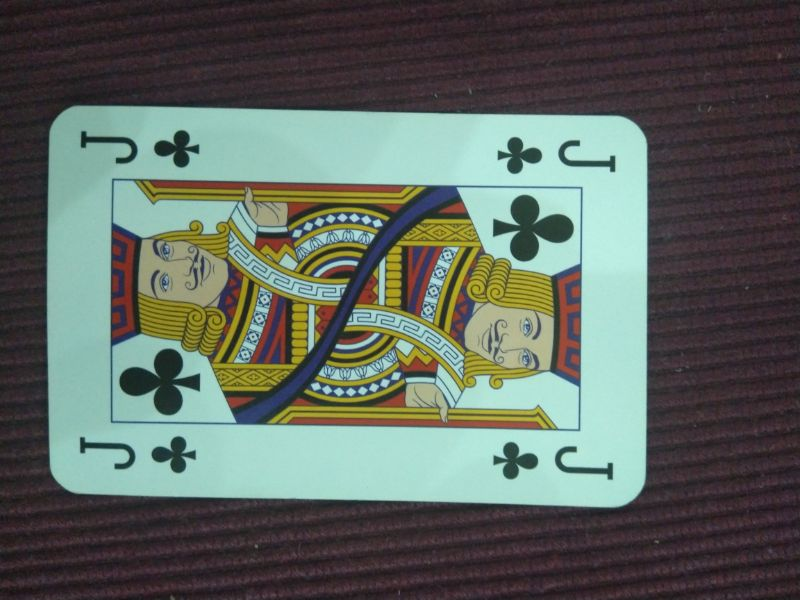Jc: (486, 435, 619, 485), (76, 427, 203, 477), (73, 124, 206, 171), (491, 132, 621, 180)
